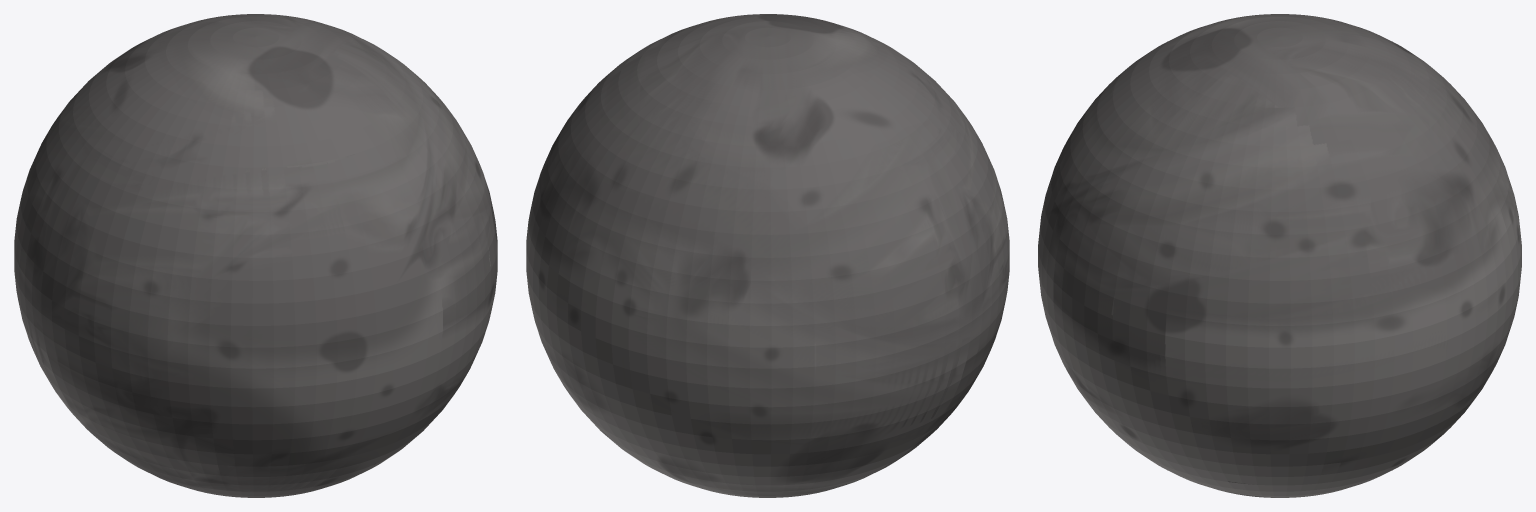
File: Moon.glb
3 views of the same model, side by side, from view 1: azimuth 30°, elevation 25°; view 2: azimuth 150°, elevation 25°; view 3: azimuth 270°, elevation 25° (orthographic).
Visible parts, largest first — view 1: Sphere; view 2: Sphere; view 3: Sphere.
Boxes of the visible parts, x1,y1,x2,y2 form: Sphere: (14, 14, 497, 497); Sphere: (526, 14, 1009, 497); Sphere: (1038, 14, 1521, 497).
Bounding box in the file's own units: 2 × 2 × 2.
Materials: 1 (1 with a texture image).
